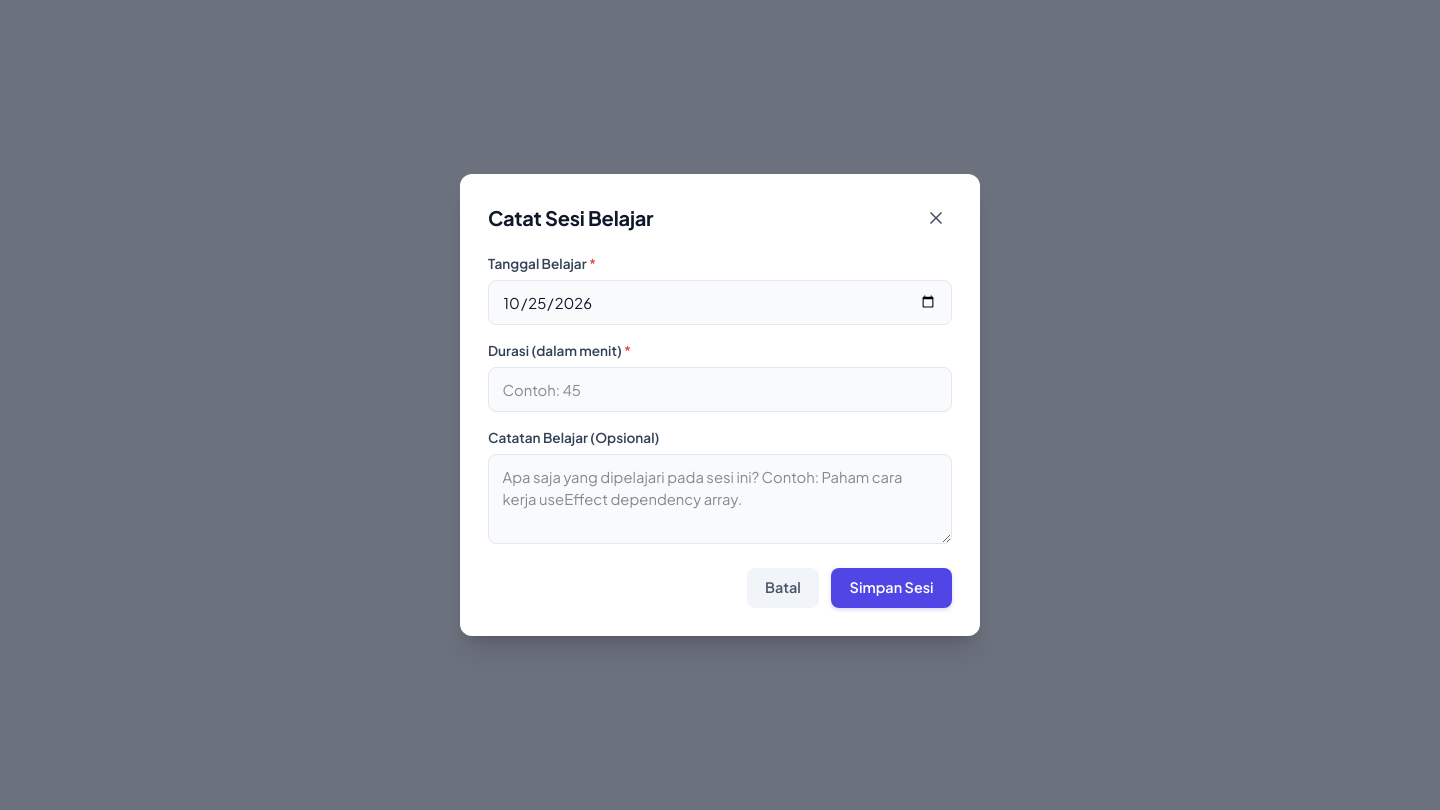
Test case: SesiForm Component tests › menampilkan pesan validasi jika durasi kurang dari atau sama dengan 0
The image size is (1440, 810).
Type "0" into the number field labelled "Durasi (dalam menit) *" at [720, 390], box [488,367,952,412]
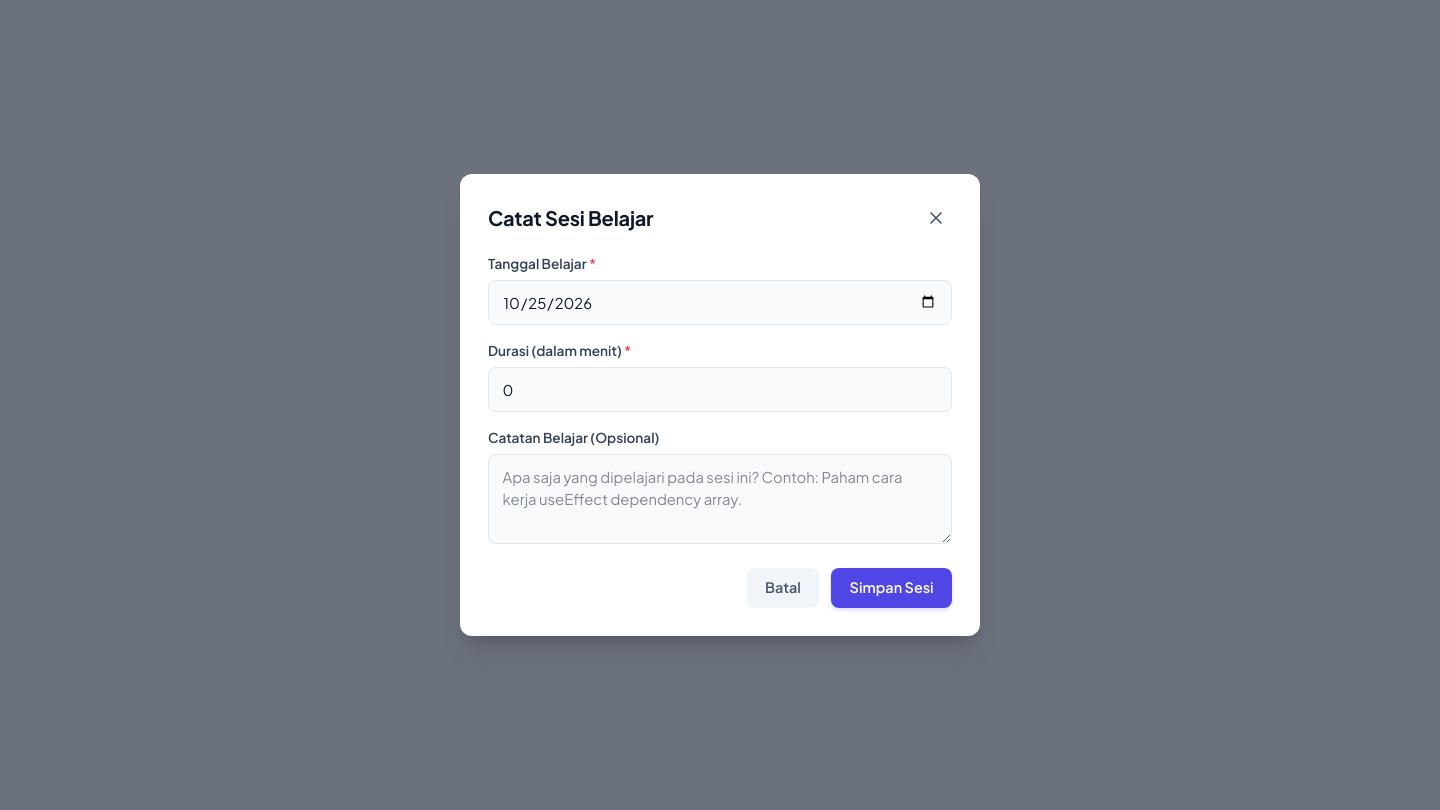
Click the button "Simpan Sesi" at [892, 588], box [831,568,952,608]
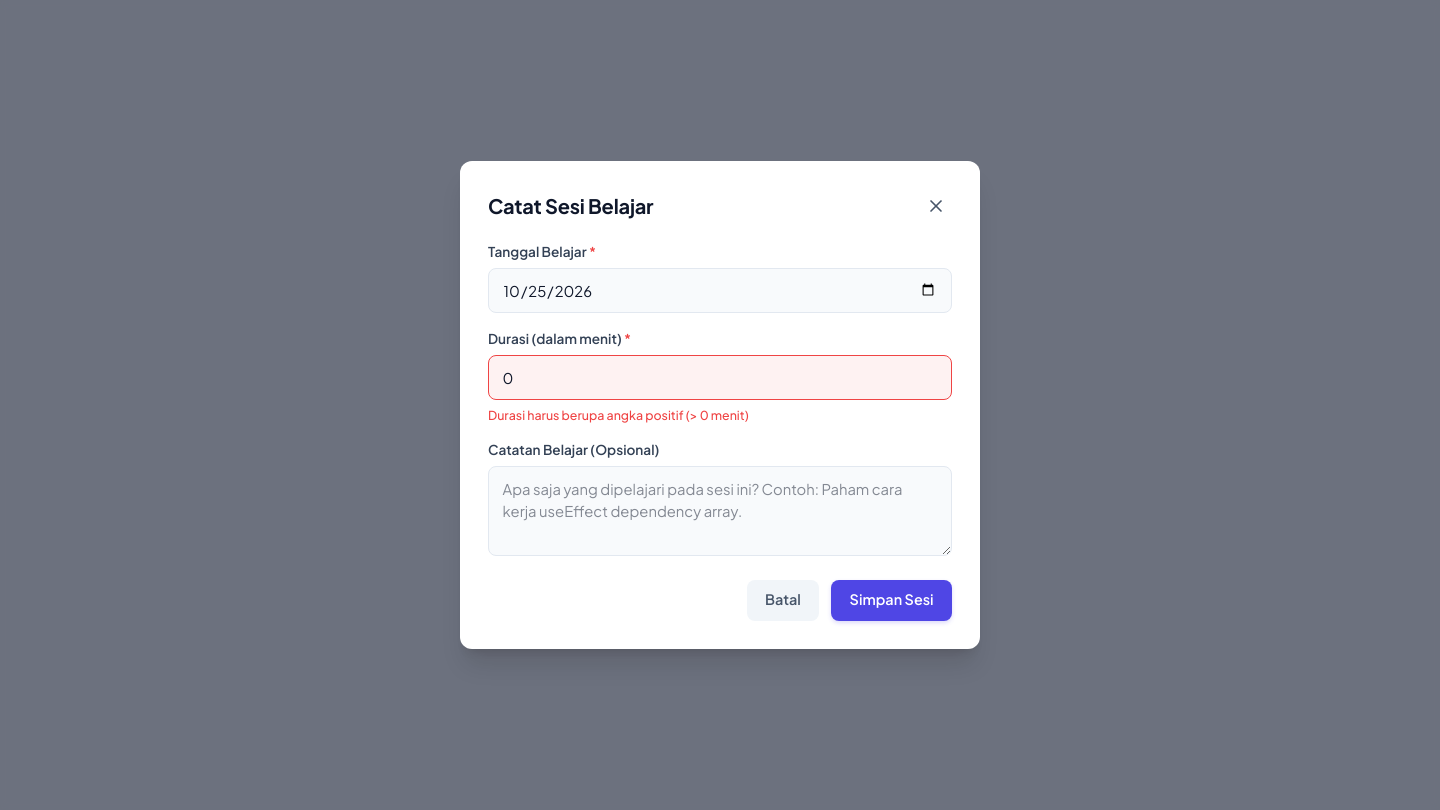
Now the text "Durasi harus berupa angka positif (> 0 menit)" is shown, box [488,407,749,423]
